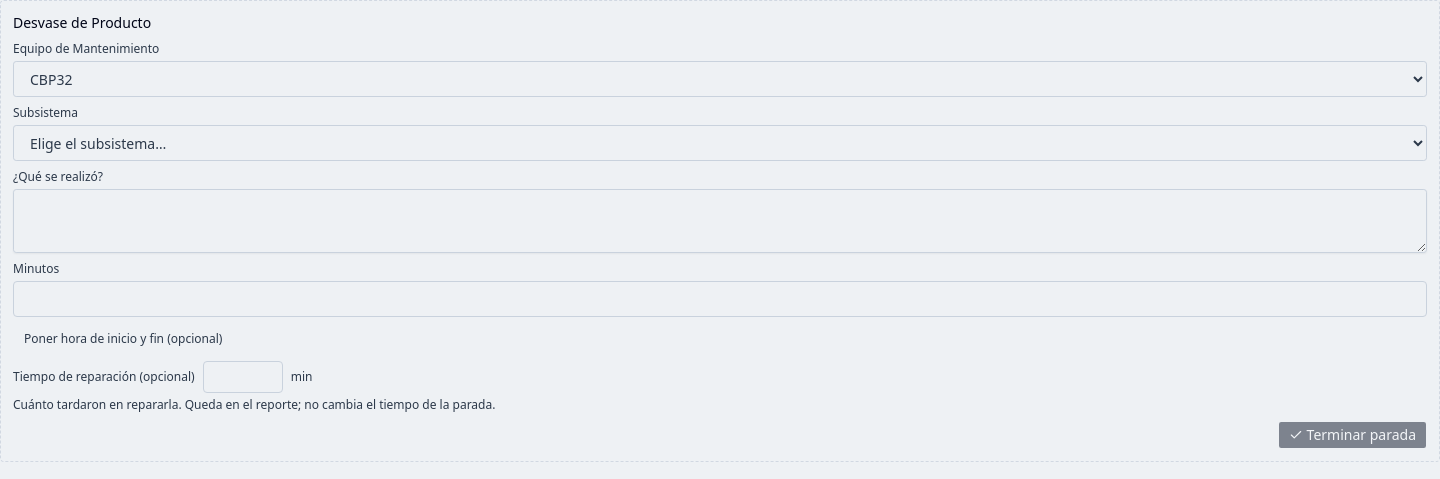
Test: FormTerminarParada › exige subsistema (o «Sin subsistema») y qué se realizó
The image size is (1440, 479).
Expected: the button "Terminar parada" is shown, left=1278, top=421, right=1427, bottom=449
Type "30" into the number field labelled "Minutos". click: (720, 299)
box: left=13, top=281, right=1427, bottom=317
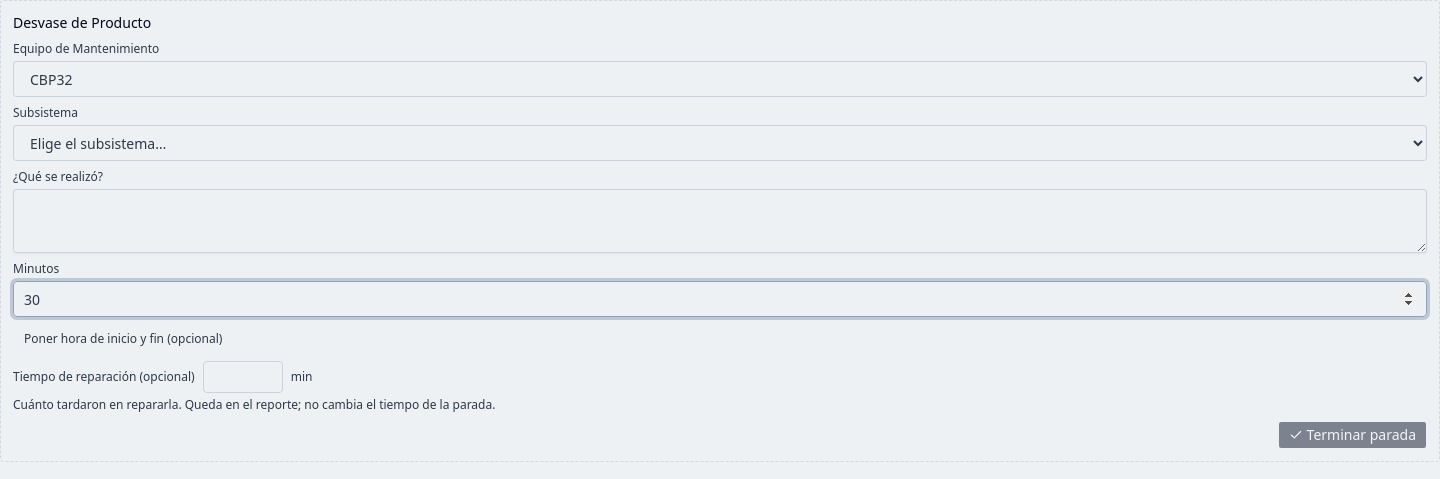
Expected: the button "Terminar parada" is disabled, left=1278, top=421, right=1427, bottom=449
Select "CBP-EMP-05 · EMPUJADOR" in the dropdown labelled "Subsistema". click: (720, 143)
box: left=13, top=125, right=1427, bottom=161
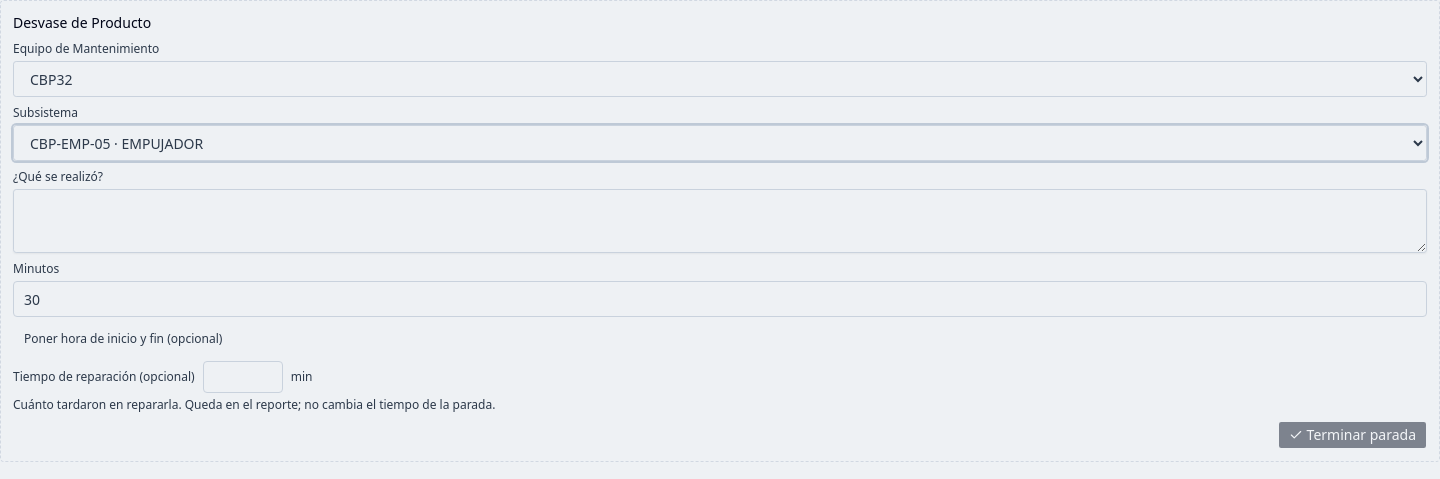
Expected: the button "Terminar parada" is disabled, left=1278, top=421, right=1427, bottom=449
Type "Se cambió el sello" into the text box labelled "¿Qué se realizó?". click: (720, 221)
box: left=13, top=189, right=1427, bottom=253
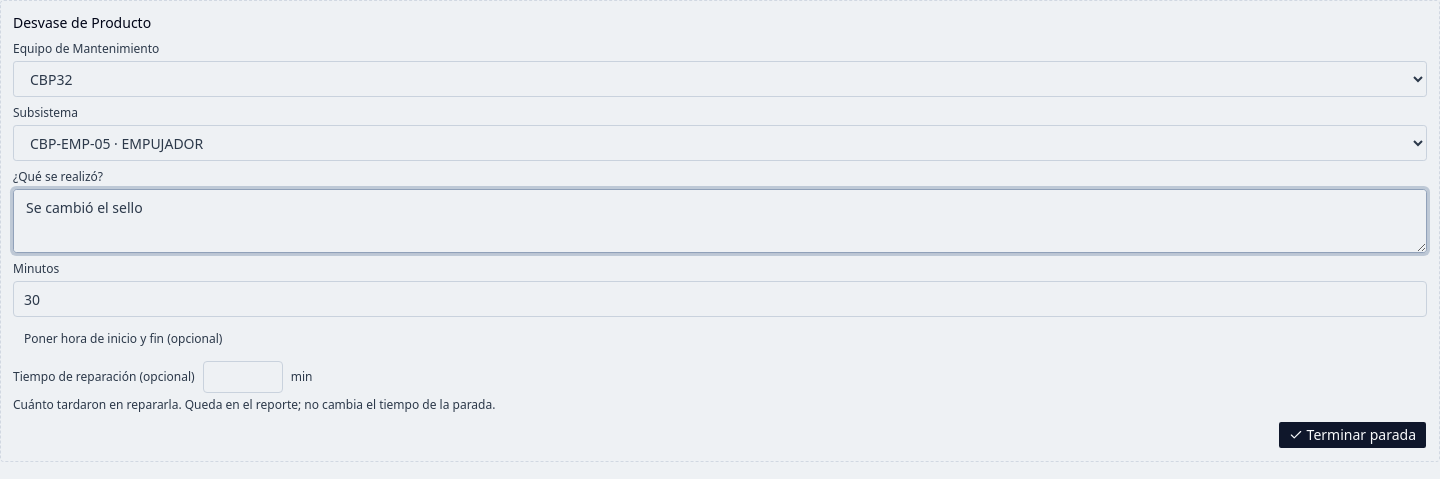
Now the button "Terminar parada" is enabled, box left=1278, top=421, right=1427, bottom=449
